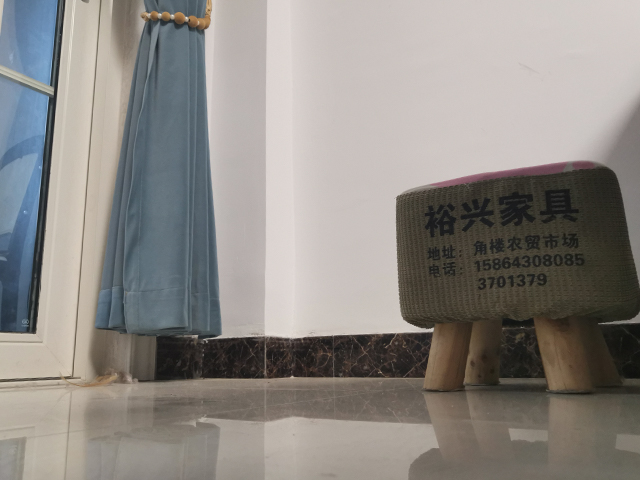curtain: (91, 1, 225, 340)
stool: (394, 158, 640, 394)
